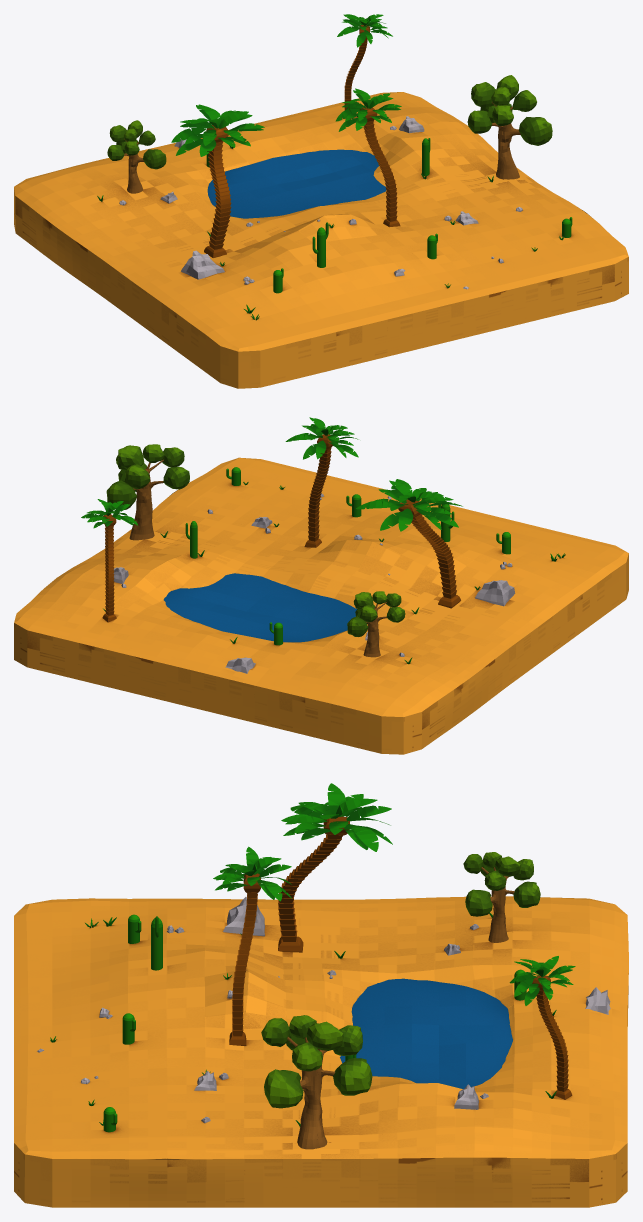
The picture shows the model from 3 angles, top to bottom: view 1: azimuth 30°, elevation 25°; view 2: azimuth 150°, elevation 25°; view 3: azimuth 270°, elevation 25°; orthographic projection. The views are drawn at different scales.
Visible parts, largest first — view 1: desert, water, tree_long, tree, rock, first; view 2: desert, water, tree_long, tree, rock, first; view 3: desert, water, tree_long, tree, rock, first.
Boxes of the visible parts, x1=… form: desert: x1=14, y1=92, x2=628, y2=388; water: x1=207, y1=149, x2=386, y2=218; tree_long: x1=171, y1=14, x2=401, y2=257; tree: x1=107, y1=75, x2=552, y2=193; rock: x1=119, y1=116, x2=522, y2=289; first: x1=206, y1=138, x2=572, y2=293; desert: x1=14, y1=457, x2=628, y2=754; water: x1=163, y1=573, x2=356, y2=642; tree_long: x1=81, y1=417, x2=462, y2=622; tree: x1=106, y1=444, x2=405, y2=657; rock: x1=113, y1=493, x2=515, y2=673; first: x1=185, y1=467, x2=510, y2=645; desert: x1=14, y1=896, x2=628, y2=1207; water: x1=340, y1=978, x2=512, y2=1088; tree_long: x1=213, y1=783, x2=575, y2=1099; tree: x1=261, y1=852, x2=540, y2=1149; rock: x1=37, y1=897, x2=610, y2=1123; first: x1=103, y1=914, x2=526, y2=1132.
Size of the model in its own units: 2075 by 871 by 2004.
